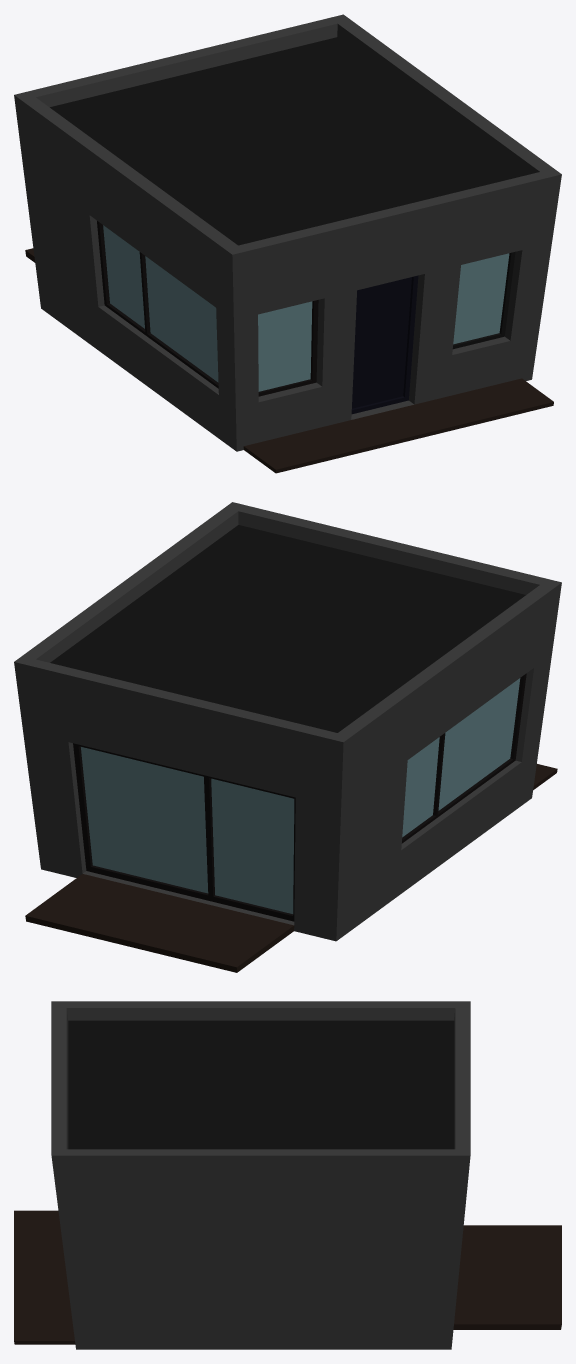
File: BuildingResident7.fbx
3 views of the same model, one above another, from view 1: azimuth 30°, elevation 25°; view 2: azimuth 150°, elevation 25°; view 3: azimuth 270°, elevation 25° (orthographic). The views are drawn at different scales.
Parts seen in each view (by area): view 1: BuildingResident7; view 2: BuildingResident7; view 3: BuildingResident7.
Part boxes in pixels (x1=…): BuildingResident7: x1=14, y1=14, x2=561, y2=473; BuildingResident7: x1=14, y1=502, x2=561, y2=972; BuildingResident7: x1=14, y1=1001, x2=561, y2=1349.
Size of the model in its own units: 15.22 by 9.29 by 22.85.
